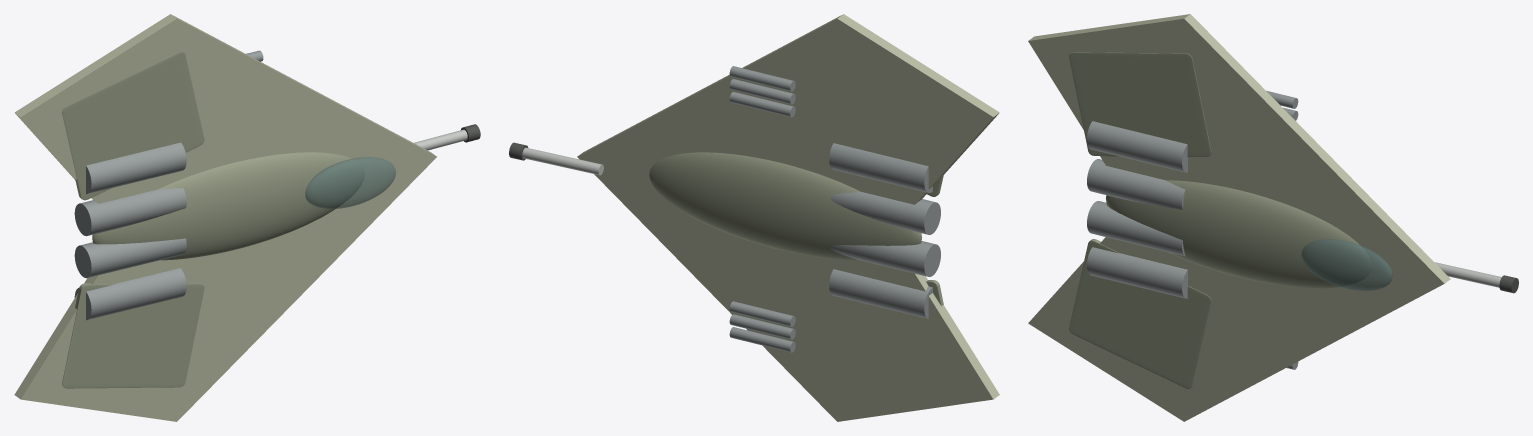
The model's file is v-u27-vanguard-heavy-bomber-lod1.glb.
3 views of the same model, side by side, from view 1: azimuth 30°, elevation 25°; view 2: azimuth 150°, elevation 25°; view 3: azimuth 330°, elevation 25° (orthographic).
Parts seen in each view (by area): view 1: flying_wing_planform, flying_wing_core, flying_wing_elevon_1, flying_wing_elevon_-1, flying_wing_canopy, flying_wing_engine_2, flying_wing_engine_0, flying_wing_engine_3, flying_wing_engine_1, flying_wing_gun_barrel_0; view 2: flying_wing_planform, flying_wing_core, flying_wing_engine_0, flying_wing_engine_3, flying_wing_engine_2, flying_wing_engine_1, flying_wing_gun_barrel_0, flying_wing_1_tube_2, flying_wing_1_tube_1, flying_wing_-1_tube_2, flying_wing_-1_tube_3, flying_wing_1_tube_3 (+1 smaller); view 3: flying_wing_planform, flying_wing_core, flying_wing_elevon_1, flying_wing_elevon_-1, flying_wing_canopy, flying_wing_engine_0, flying_wing_engine_3, flying_wing_engine_2, flying_wing_engine_1, flying_wing_gun_barrel_0.
Part boxes in pixels (left/top/right/bottom): flying_wing_planform: left=14, top=14, right=436, bottom=421; flying_wing_core: left=92, top=152, right=364, bottom=260; flying_wing_elevon_1: left=62, top=52, right=204, bottom=200; flying_wing_elevon_-1: left=62, top=283, right=204, bottom=388; flying_wing_canopy: left=305, top=157, right=395, bottom=208; flying_wing_engine_2: left=74, top=188, right=186, bottom=236; flying_wing_engine_0: left=74, top=268, right=186, bottom=320; flying_wing_engine_3: left=86, top=142, right=186, bottom=194; flying_wing_engine_1: left=74, top=238, right=186, bottom=278; flying_wing_gun_barrel_0: left=414, top=129, right=467, bottom=150; flying_wing_planform: left=577, top=14, right=999, bottom=421; flying_wing_core: left=649, top=152, right=921, bottom=260; flying_wing_engine_0: left=829, top=269, right=932, bottom=318; flying_wing_engine_3: left=829, top=143, right=932, bottom=192; flying_wing_engine_2: left=830, top=191, right=940, bottom=234; flying_wing_engine_1: left=830, top=241, right=940, bottom=276; flying_wing_gun_barrel_0: left=522, top=147, right=603, bottom=175; flying_wing_1_tube_2: left=729, top=79, right=795, bottom=104; flying_wing_1_tube_1: left=729, top=91, right=795, bottom=117; flying_wing_-1_tube_2: left=729, top=314, right=795, bottom=339; flying_wing_-1_tube_3: left=729, top=301, right=795, bottom=326; flying_wing_1_tube_3: left=729, top=66, right=795, bottom=91; flying_wing_planform: left=1028, top=14, right=1450, bottom=421; flying_wing_core: left=1106, top=180, right=1371, bottom=288; flying_wing_elevon_1: left=1069, top=52, right=1211, bottom=156; flying_wing_elevon_-1: left=1069, top=239, right=1211, bottom=388; flying_wing_canopy: left=1301, top=239, right=1392, bottom=290; flying_wing_engine_0: left=1087, top=247, right=1187, bottom=298; flying_wing_engine_3: left=1087, top=121, right=1187, bottom=172; flying_wing_engine_2: left=1087, top=159, right=1185, bottom=209; flying_wing_engine_1: left=1087, top=201, right=1185, bottom=256; flying_wing_gun_barrel_0: left=1434, top=262, right=1501, bottom=287.
Size of what is drawn, in the model's own units: 18.89 by 15.43 by 2.14.
